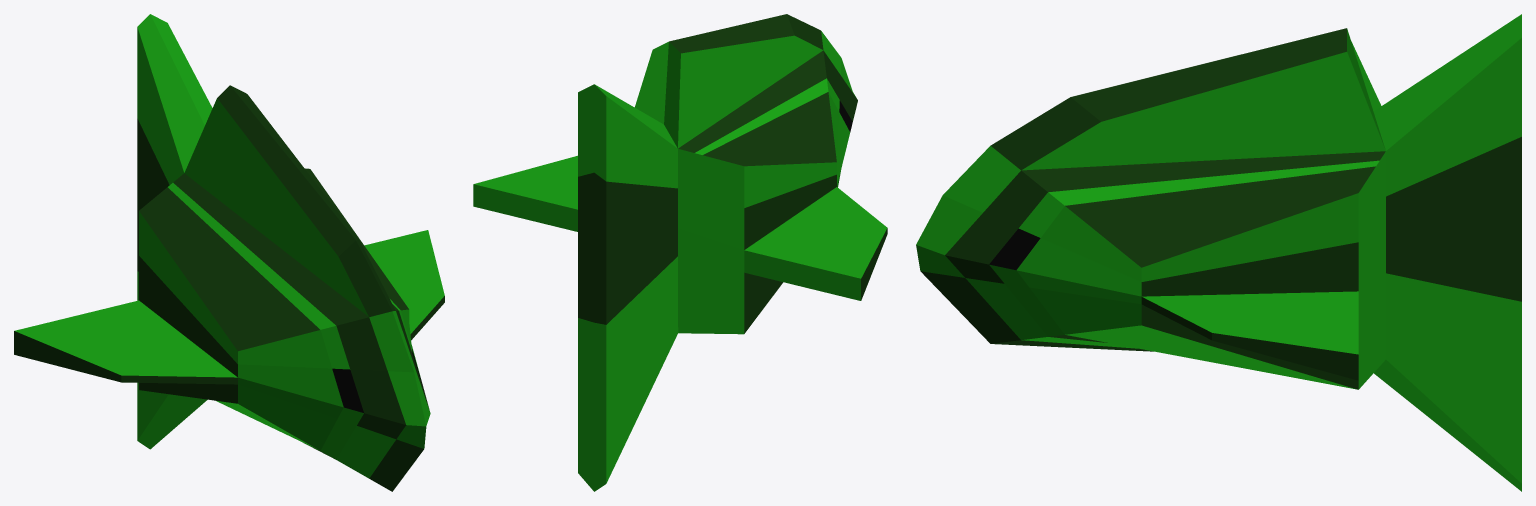
Rendered from green_fish_model.obj.
3 views of the same model, side by side, from view 1: azimuth 30°, elevation 25°; view 2: azimuth 150°, elevation 25°; view 3: azimuth 270°, elevation 25° (orthographic). The views are drawn at different scales.
Parts seen in each view (by area): view 1: Cube; view 2: Cube; view 3: Cube.
Boxes of the visible parts, x1=… form: Cube: x1=14, y1=14, x2=444, y2=491; Cube: x1=473, y1=14, x2=887, y2=491; Cube: x1=916, y1=14, x2=1521, y2=491.
Bounding box in the file's own units: 4.83 × 4.86 × 5.58.
